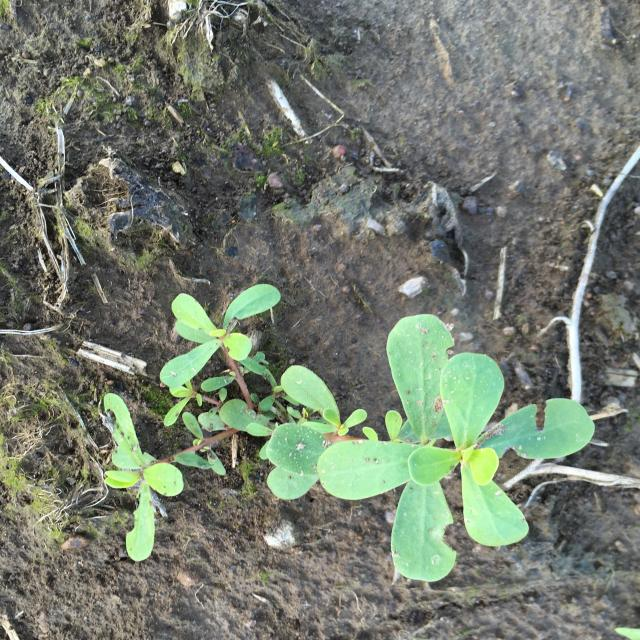Purslane: (103, 284, 595, 582)
